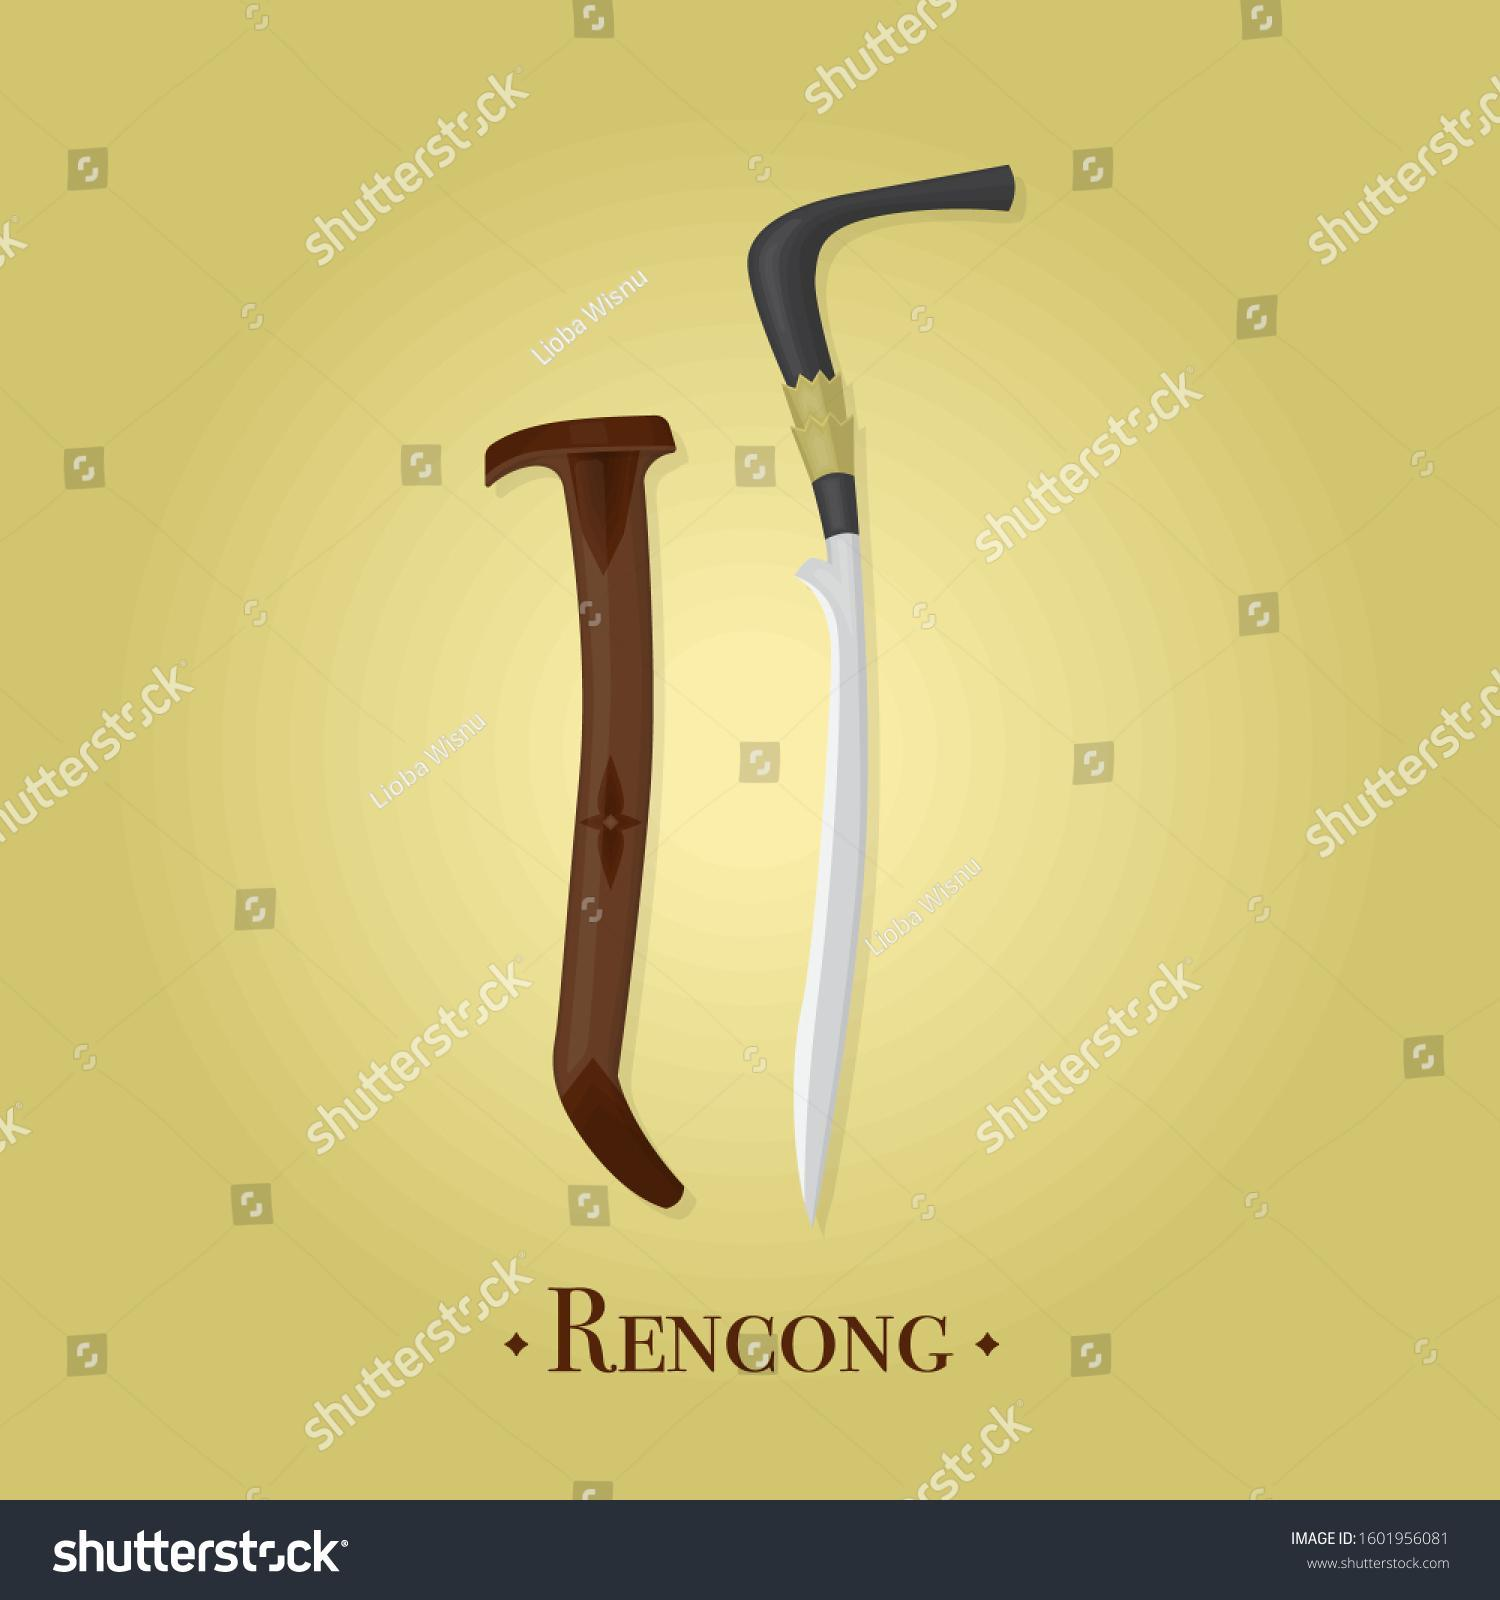facao: (747, 166, 1014, 1224)
